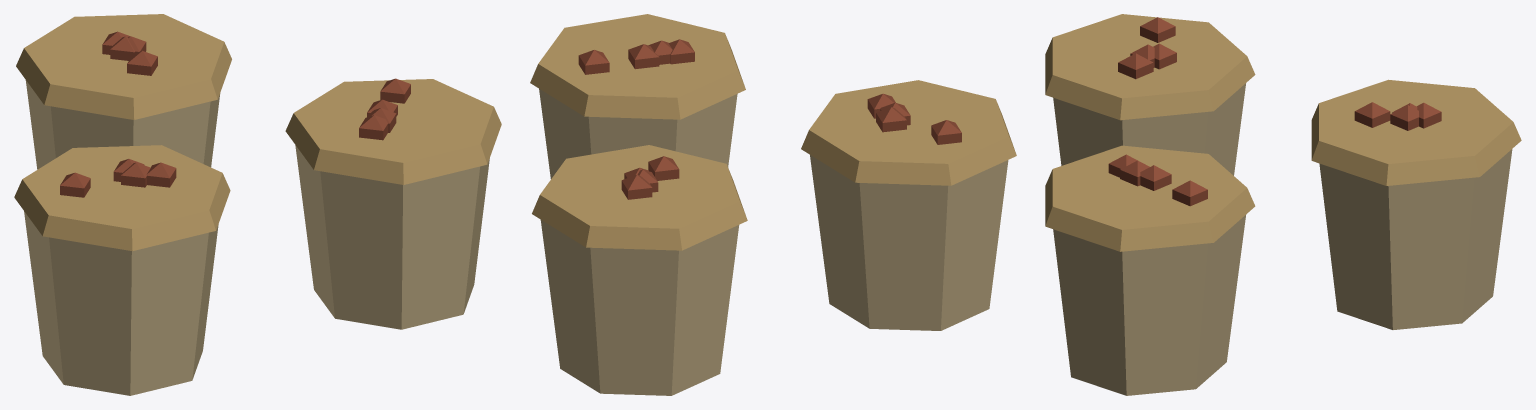
Rendered from pile_beans_1.glb.
3 renders of one model, left to right at view 1: azimuth 30°, elevation 25°; view 2: azimuth 150°, elevation 25°; view 3: azimuth 270°, elevation 25°, orthographic.
Parts seen in each view (by area): view 1: pile_beans_1; view 2: pile_beans_1; view 3: pile_beans_1.
Boxes of the visible parts, x1,y1,x2,y2 form: pile_beans_1: [14, 14, 501, 395]; pile_beans_1: [530, 14, 1016, 395]; pile_beans_1: [1045, 14, 1521, 395].
Size of the model in its own units: 1.29 by 0.52 by 1.16.
